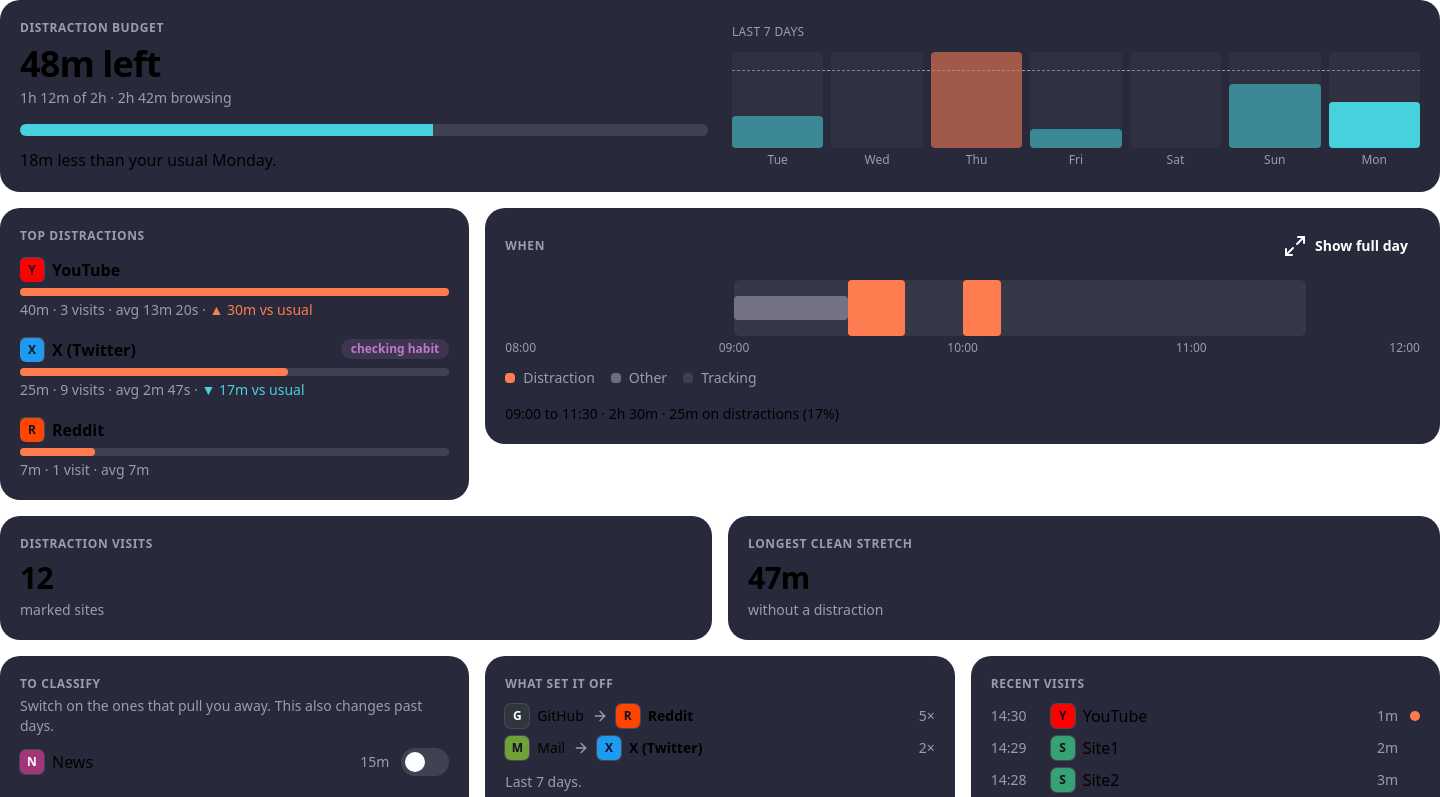
Scenario: marking sites from the Day view › offers an undo after marking, even once the site has left the list
Step 1. Click the switch named "Count news.site as a distraction" → (425, 762), box 401,748 -> 449,776
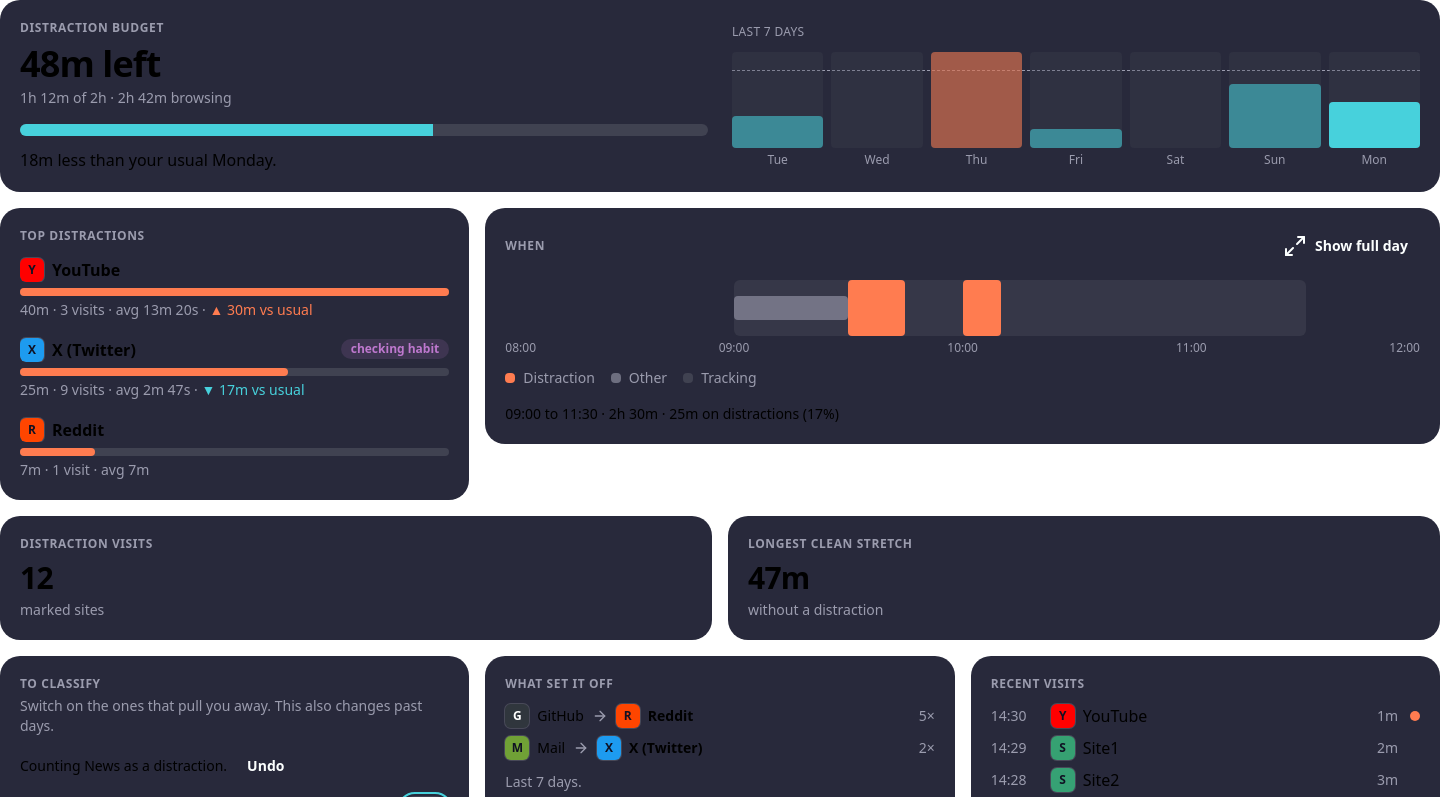
Expected: the message shows "Counting News as a distraction.", 20,748 -> 296,784
Step 2. Click the button "Undo" → (266, 766), box 235,748 -> 296,784
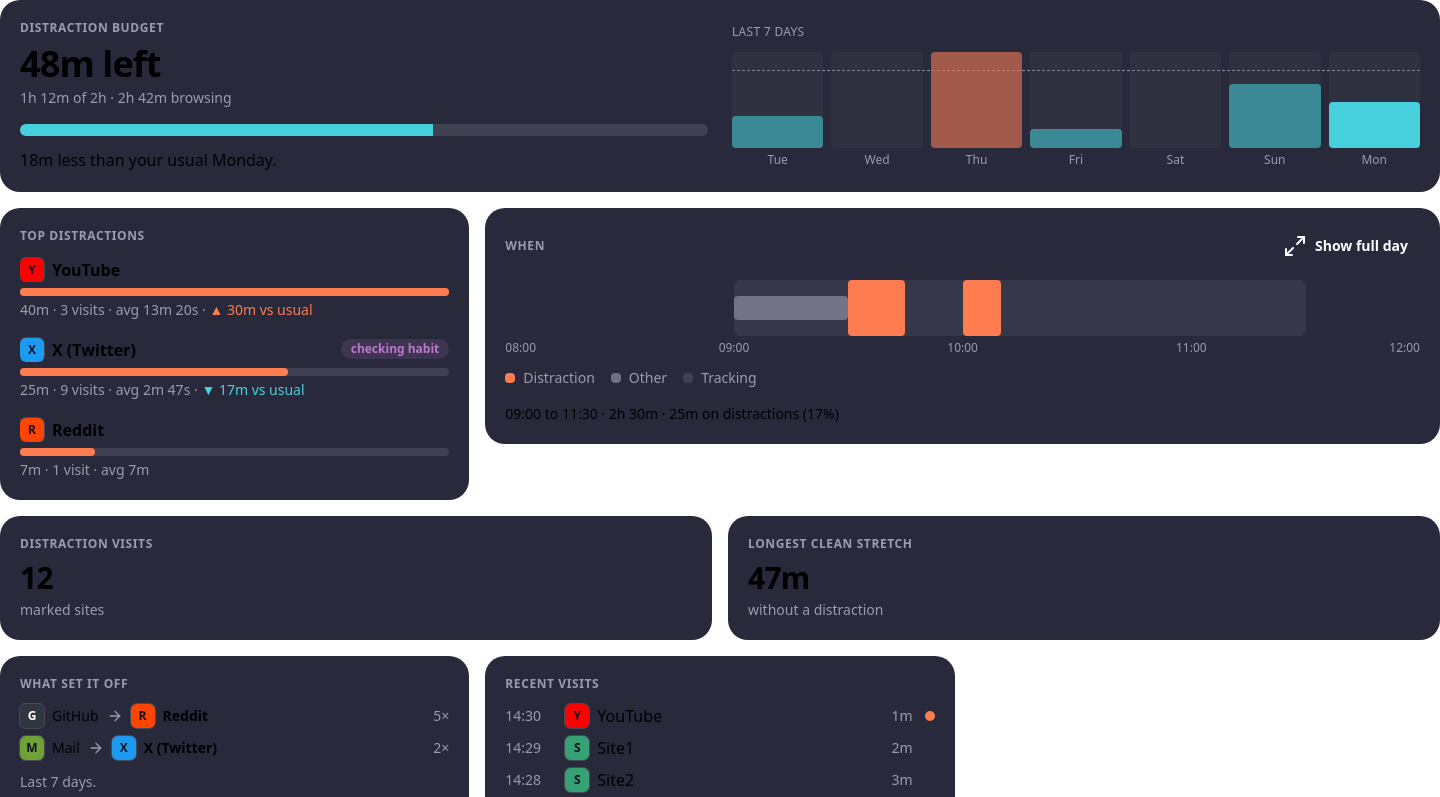
Expected: the message "Counting News as a distraction. Undo" is gone
